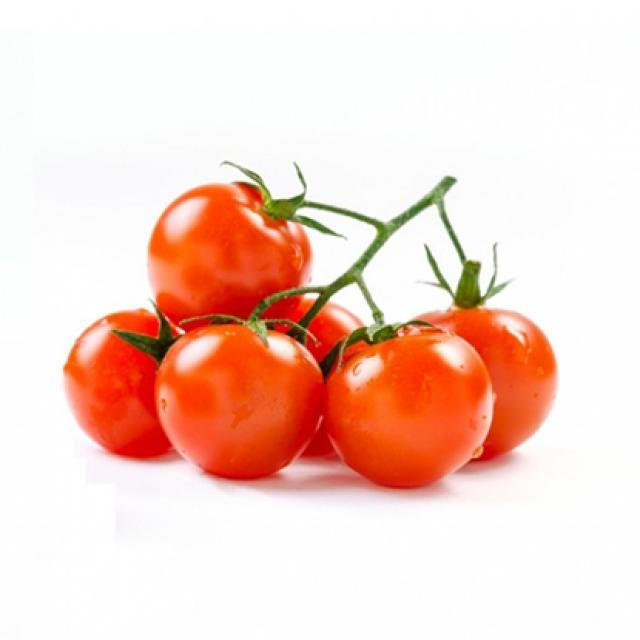kirmizi: (40, 178, 562, 488)
